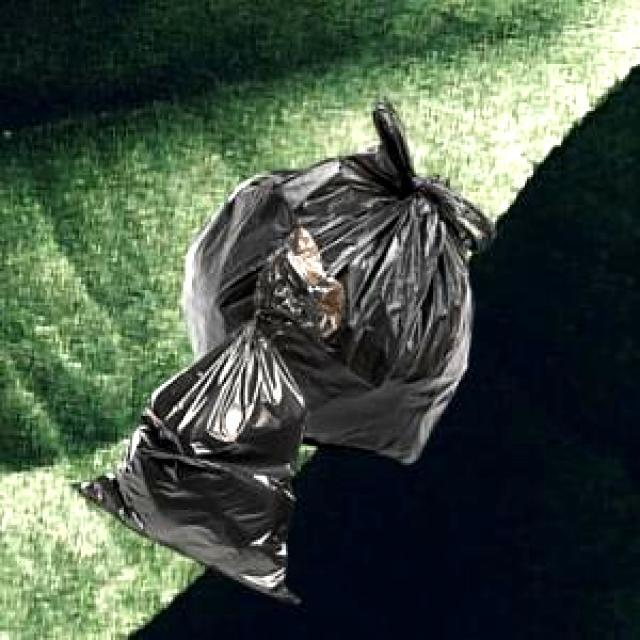Garbage_Bag: (180, 95, 494, 462), (67, 224, 340, 598)
